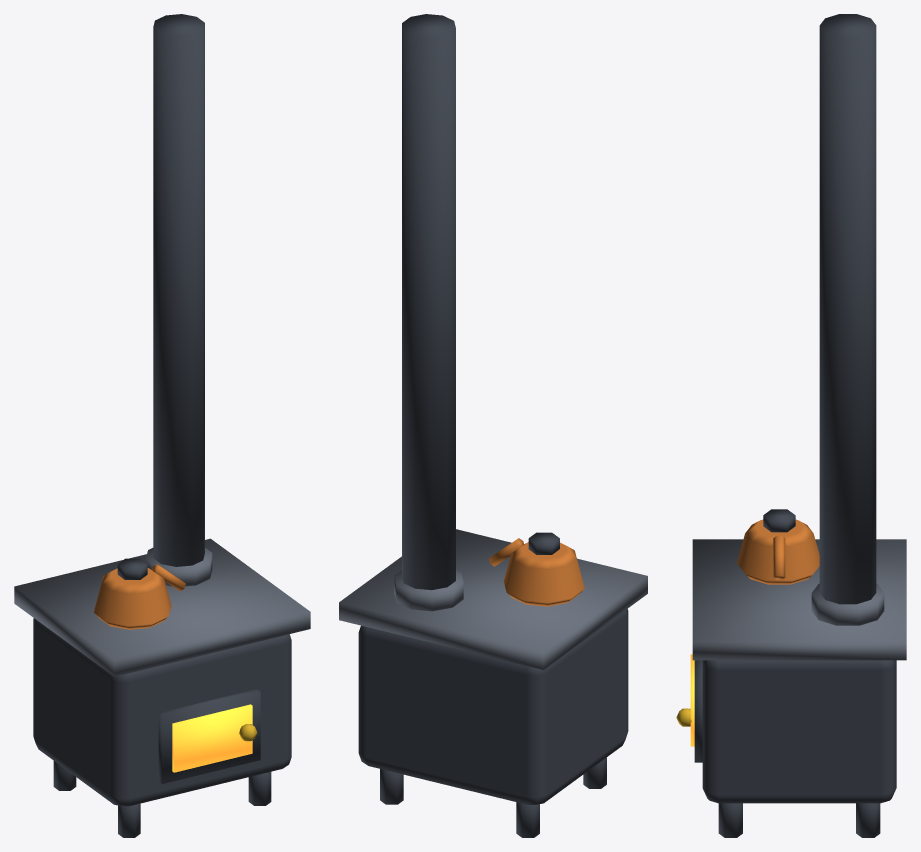
File: stove.glb
3 views of the same model, side by side, from view 1: azimuth 30°, elevation 25°; view 2: azimuth 150°, elevation 25°; view 3: azimuth 270°, elevation 25° (orthographic). The views are drawn at different scales.
Visible parts, largest first — view 1: stove; view 2: stove; view 3: stove.
Boxes of the visible parts, left/top/right/bottom form: stove: left=14, top=14, right=310, bottom=837; stove: left=339, top=14, right=647, bottom=837; stove: left=676, top=14, right=906, bottom=837.
Bounding box in the file's own units: 0.6 × 2.17 × 0.57.
